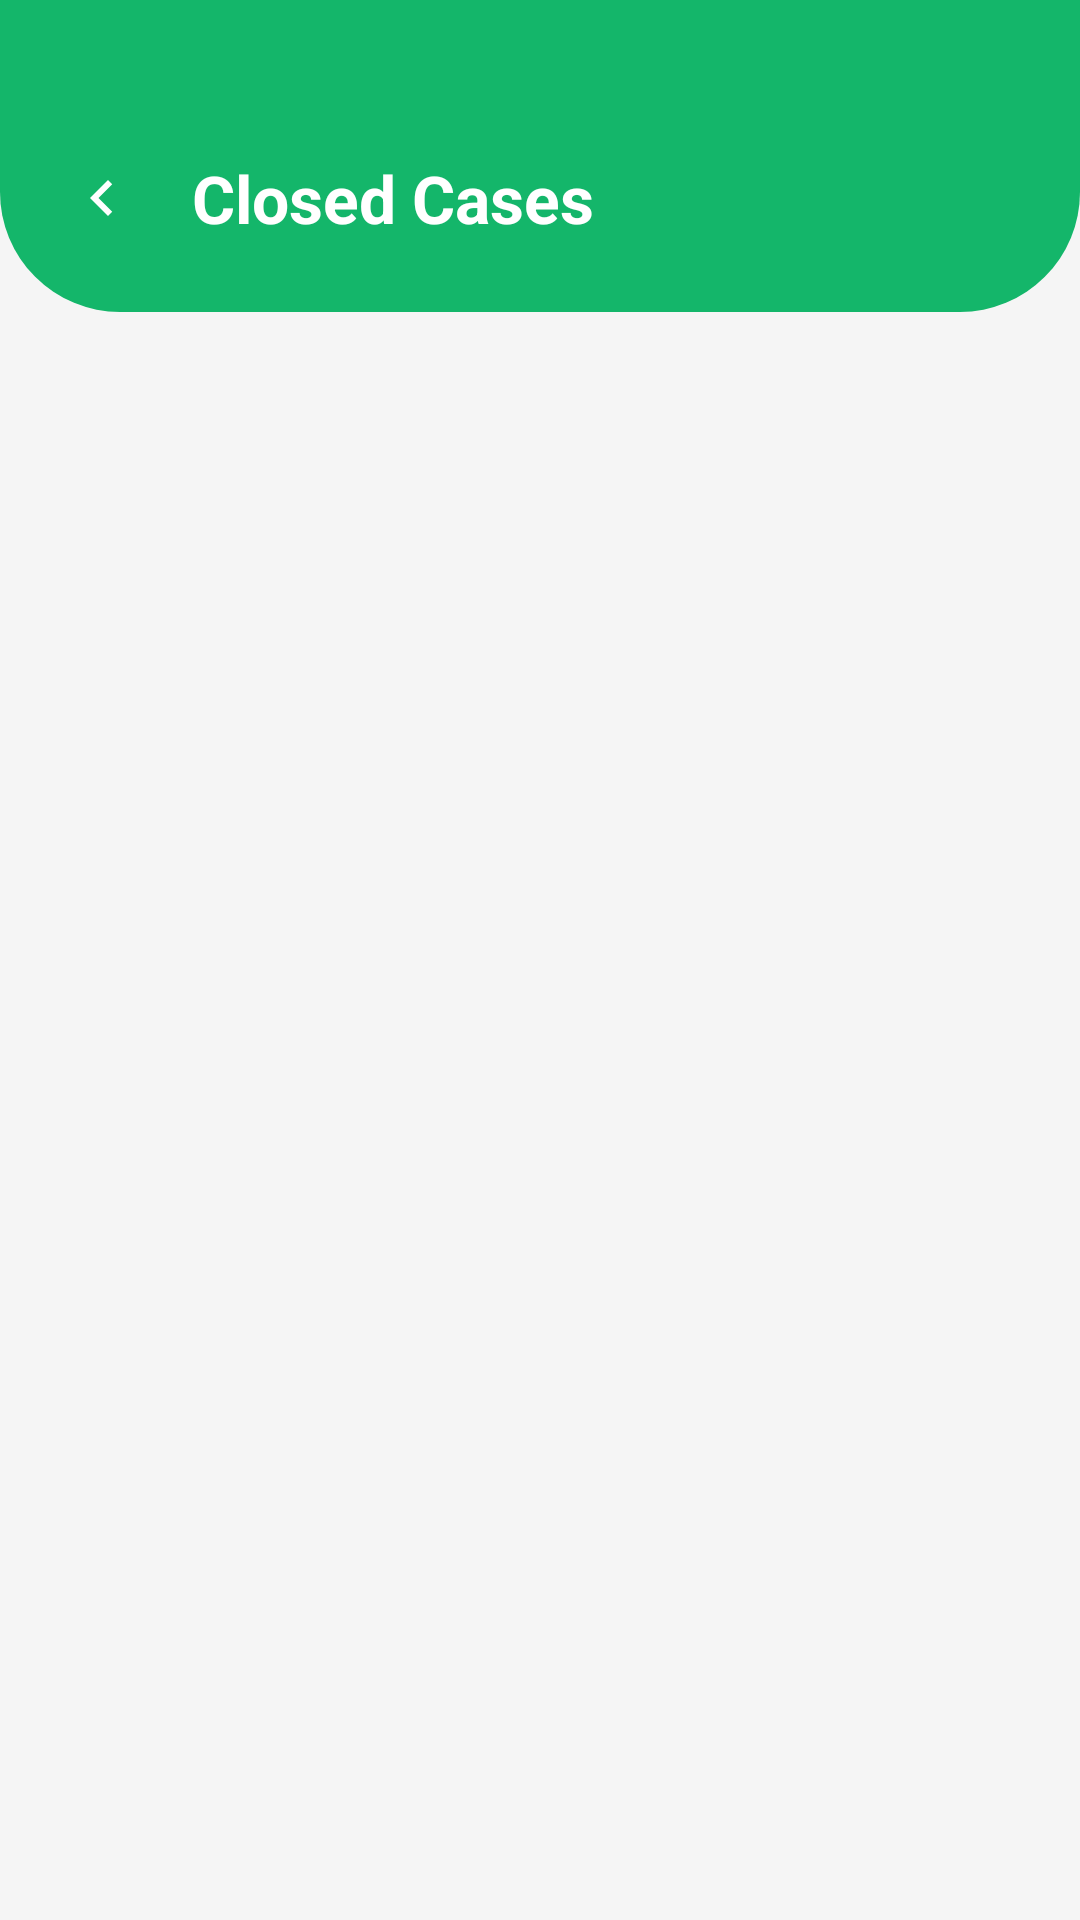

Icon click points for this 1080 × 1920 phone screenshot, format (x=x, y=y):
back: (x=101, y=198)
